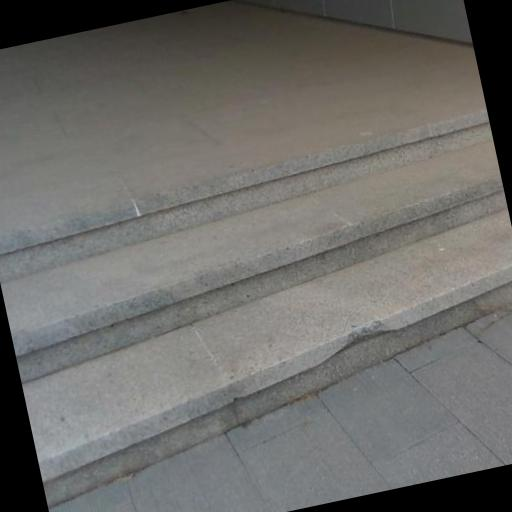stairs: (0, 122, 511, 504)
